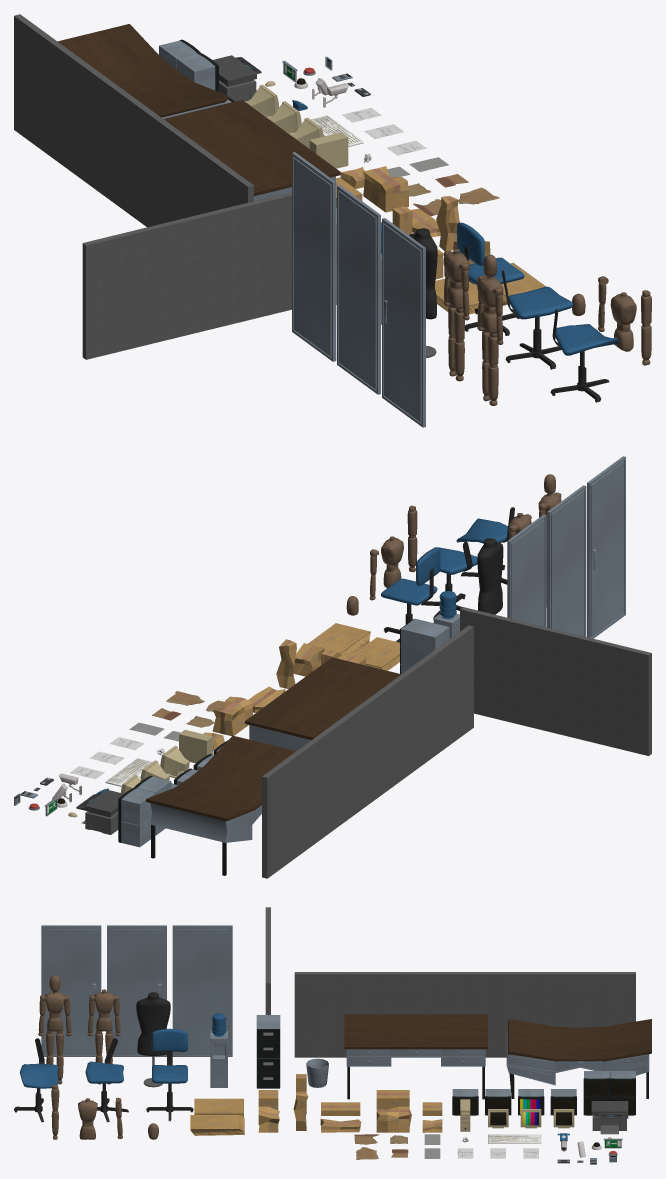
File: backrooms-vol2.glb
The picture shows the model from 3 angles, top to bottom: view 1: azimuth 30°, elevation 25°; view 2: azimuth 150°, elevation 25°; view 3: azimuth 270°, elevation 25°; orthographic projection. The views are drawn at different scales.
Visible parts, largest first — view 1: Vertical_Office_Partition, Horizontal_Office_Partition, Door_Without_Handle, Door, Door_Single_Handle, Office_Table, Broken_Office_Table, Standing_Mannequin, Headless_Standing_Mannequin, Broken_Office_Chair_1, Broken_Office_Chair_2, Office_Chair (+12 smaller); view 2: Horizontal_Office_Partition, Vertical_Office_Partition, Broken_Office_Table, Office_Table, Door, Door_Single_Handle, Door_Without_Handle, Quadro_CCTV_Monitor, Office_Chair, Half_Mannequin, Filing_Cabinet, Printer (+13 smaller); view 3: Horizontal_Office_Partition, Broken_Office_Table, Office_Table, Door_Without_Handle, Door, Door_Single_Handle, Office_Chair, Standing_Mannequin, Quadro_CCTV_Monitor, Half_Mannequin, Headless_Standing_Mannequin, Broken_Office_Chair_2 (+24 smaller).
Part boxes in pixels (left/top/right/bottom): Vertical_Office_Partition: left=82, top=192, right=291, bottom=359; Horizontal_Office_Partition: left=14, top=14, right=253, bottom=227; Door_Without_Handle: left=292, top=152, right=336, bottom=361; Door: left=382, top=218, right=425, bottom=427; Door_Single_Handle: left=337, top=185, right=380, bottom=394; Office_Table: left=164, top=100, right=340, bottom=201; Broken_Office_Table: left=58, top=24, right=228, bottom=118; Standing_Mannequin: left=477, top=254, right=503, bottom=405; Headless_Standing_Mannequin: left=443, top=249, right=469, bottom=381; Broken_Office_Chair_1: left=502, top=270, right=573, bottom=369; Broken_Office_Chair_2: left=550, top=309, right=618, bottom=402; Office_Chair: left=457, top=222, right=524, bottom=335; Horizontal_Office_Partition: left=262, top=625, right=473, bottom=878; Vertical_Office_Partition: left=460, top=607, right=651, bottom=755; Broken_Office_Table: left=146, top=735, right=296, bottom=875; Office_Table: left=245, top=657, right=400, bottom=750; Door: left=587, top=456, right=625, bottom=638; Door_Single_Handle: left=547, top=485, right=586, bottom=636; Door_Without_Handle: left=507, top=514, right=546, bottom=627; Quadro_CCTV_Monitor: left=118, top=775, right=171, bottom=847; Office_Chair: left=381, top=547, right=440, bottom=642; Half_Mannequin: left=477, top=538, right=503, bottom=614; Filing_Cabinet: left=401, top=618, right=449, bottom=674; Printer: left=76, top=789, right=123, bottom=834; Horizontal_Office_Partition: left=294, top=972, right=635, bottom=1057; Broken_Office_Table: left=506, top=1019, right=651, bottom=1098; Office_Table: left=344, top=1014, right=487, bottom=1099; Door_Without_Handle: left=172, top=925, right=232, bottom=1056; Door: left=41, top=925, right=101, bottom=1056; Door_Single_Handle: left=107, top=925, right=166, bottom=1056; Office_Chair: left=146, top=1028, right=193, bottom=1121; Standing_Mannequin: left=38, top=975, right=71, bottom=1084; Quadro_CCTV_Monitor: left=583, top=1071, right=635, bottom=1115; Half_Mannequin: left=136, top=992, right=170, bottom=1087; Headless_Standing_Mannequin: left=87, top=989, right=120, bottom=1084; Broken_Office_Chair_2: left=14, top=1038, right=58, bottom=1122.
Size of the model in its own units: 6.27 by 2.26 by 9.72.
2 materials, 2 textured.
